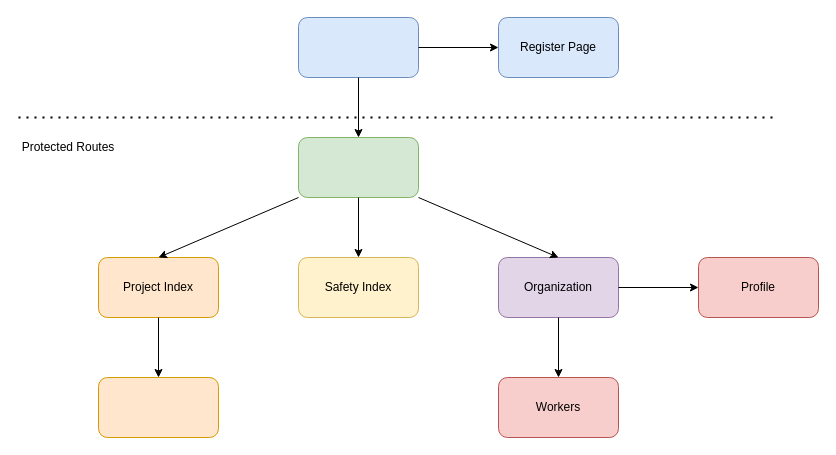
Some shapes in this 836 by 455 pixel diagram are drawn without their labels. The shapes that lost their labels are listed below. From the top down, each one's centre as x and y in pixels, then its label:
the point at 358,47: Login Page
the point at 358,167: Dashboard
the point at 158,407: Project Details
